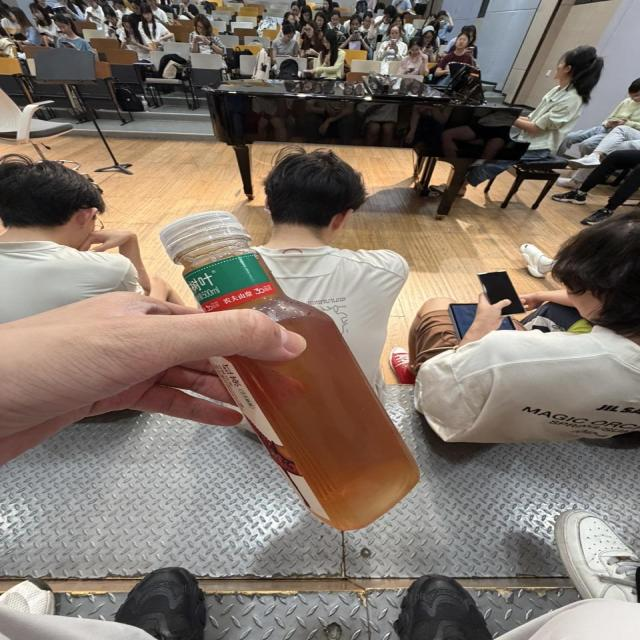high: (160, 211, 419, 530)
